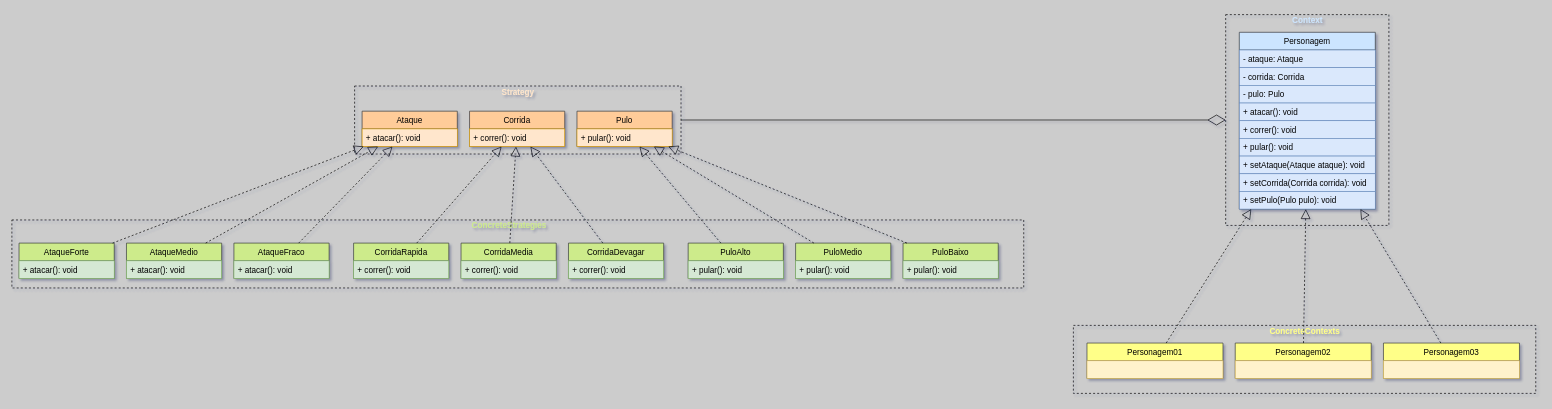
The diagram is 1552 pixels wide and 409 high, and some of its shapes have lost their labels. The centre of each missing label's shape, as x and y in pixels:
"+ Personagem01(): void" goes at point 1154,369.
"+ Personagem02(): void" goes at point 1303,369.
"+ Personagem03(): void" goes at point 1451,369.
